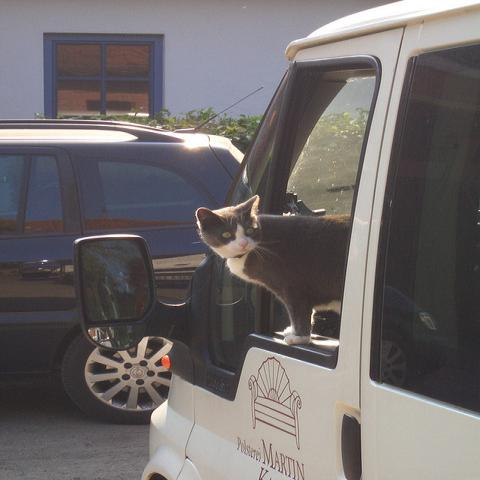car: (74, 98, 479, 480), (3, 124, 246, 427)
truck: (71, 1, 479, 475)
